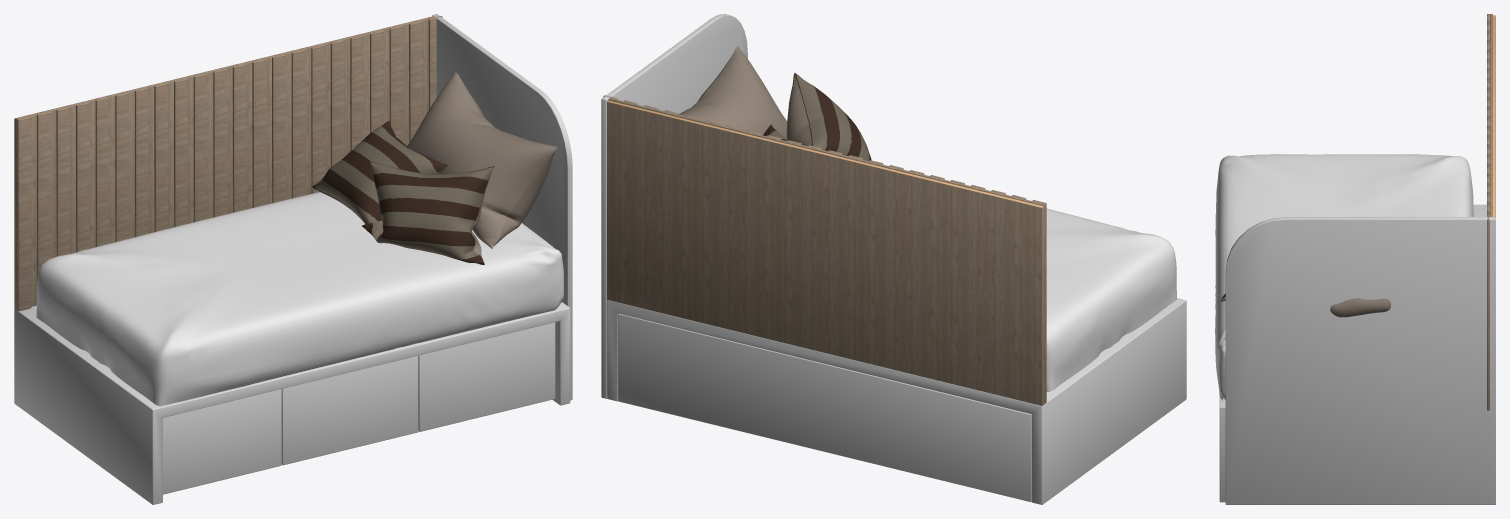
Rendered from Children bed2.fbx.
3 renders of one model, left to right at view 1: azimuth 30°, elevation 25°; view 2: azimuth 150°, elevation 25°; view 3: azimuth 270°, elevation 25°, orthographic. The views are drawn at different scales.
Parts seen in each view (by area): view 1: 1 bed_, 1 bed_.005, 1 bed_.001, 1 bed_.004; view 2: 1 bed_, 1 bed_.001, 1 bed_.005, 1 bed_.004; view 3: 1 bed_, 1 bed_.005, 1 bed_.004, 1 bed_.001.
Part boxes in pixels (left/top/right/bottom): 1 bed_: left=14, top=14, right=572, bottom=400; 1 bed_.005: left=36, top=192, right=563, bottom=406; 1 bed_.001: left=14, top=302, right=570, bottom=504; 1 bed_.004: left=312, top=72, right=557, bottom=264; 1 bed_: left=601, top=14, right=1046, bottom=405; 1 bed_.001: left=607, top=298, right=1186, bottom=504; 1 bed_.005: left=1046, top=208, right=1176, bottom=391; 1 bed_.004: left=679, top=46, right=871, bottom=160; 1 bed_: left=1225, top=14, right=1495, bottom=504; 1 bed_.005: left=1215, top=154, right=1473, bottom=400; 1 bed_.004: left=1220, top=293, right=1390, bottom=317; 1 bed_.001: left=1219, top=204, right=1486, bottom=502.
Size of the model in its own units: 163 by 105 by 93.51.
6 materials, 2 textured.
